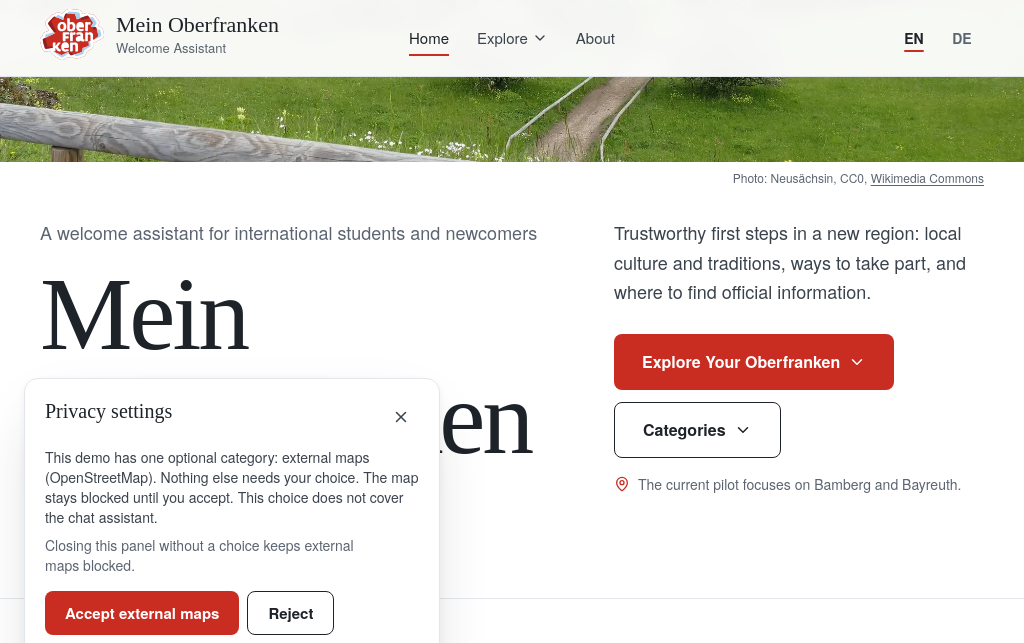
F2: dismissal restores focus to the trigger › outside click closes and returns focus to Categories
The image size is (1024, 643).
(page scrolled)
Click the button "Categories". click: (697, 430)
box: [614,402,781,458]
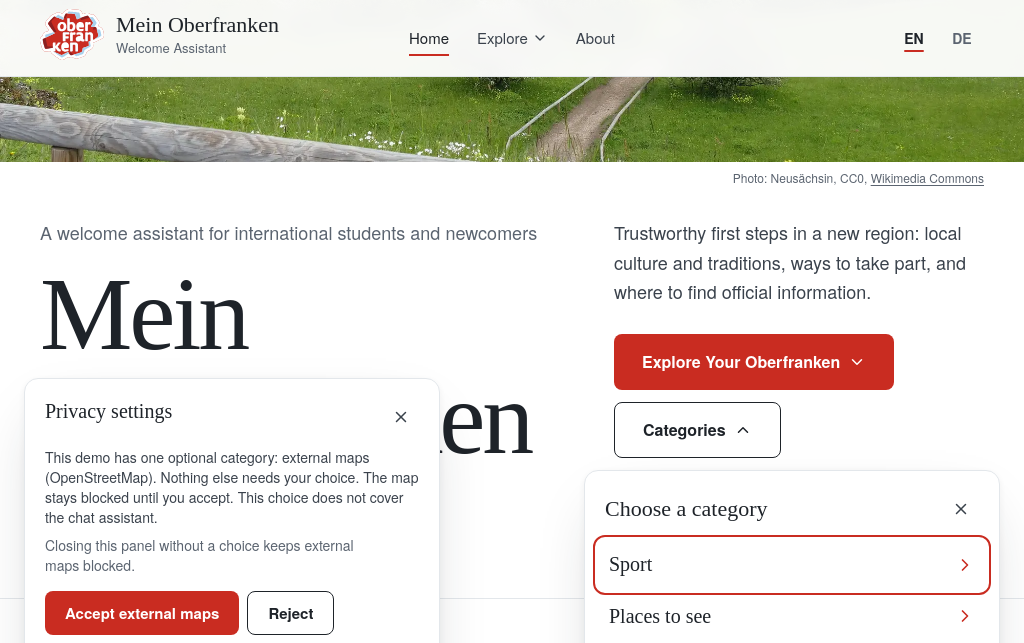
Click the heading "Mein Oberfranken". click: (307, 366)
box: [40,262,574,470]
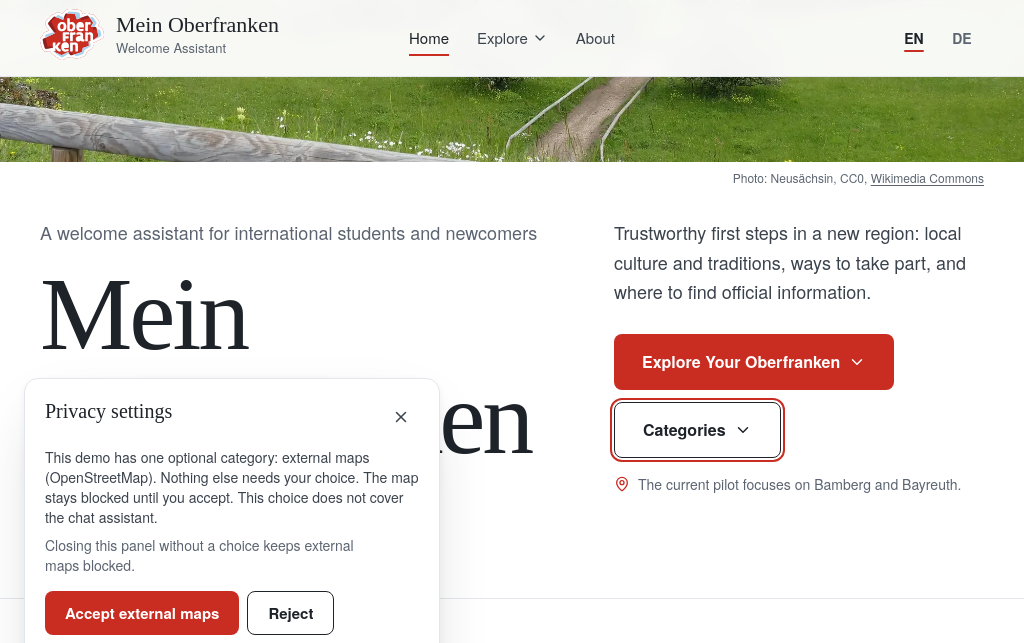
Now the heading "Choose a category" is gone
